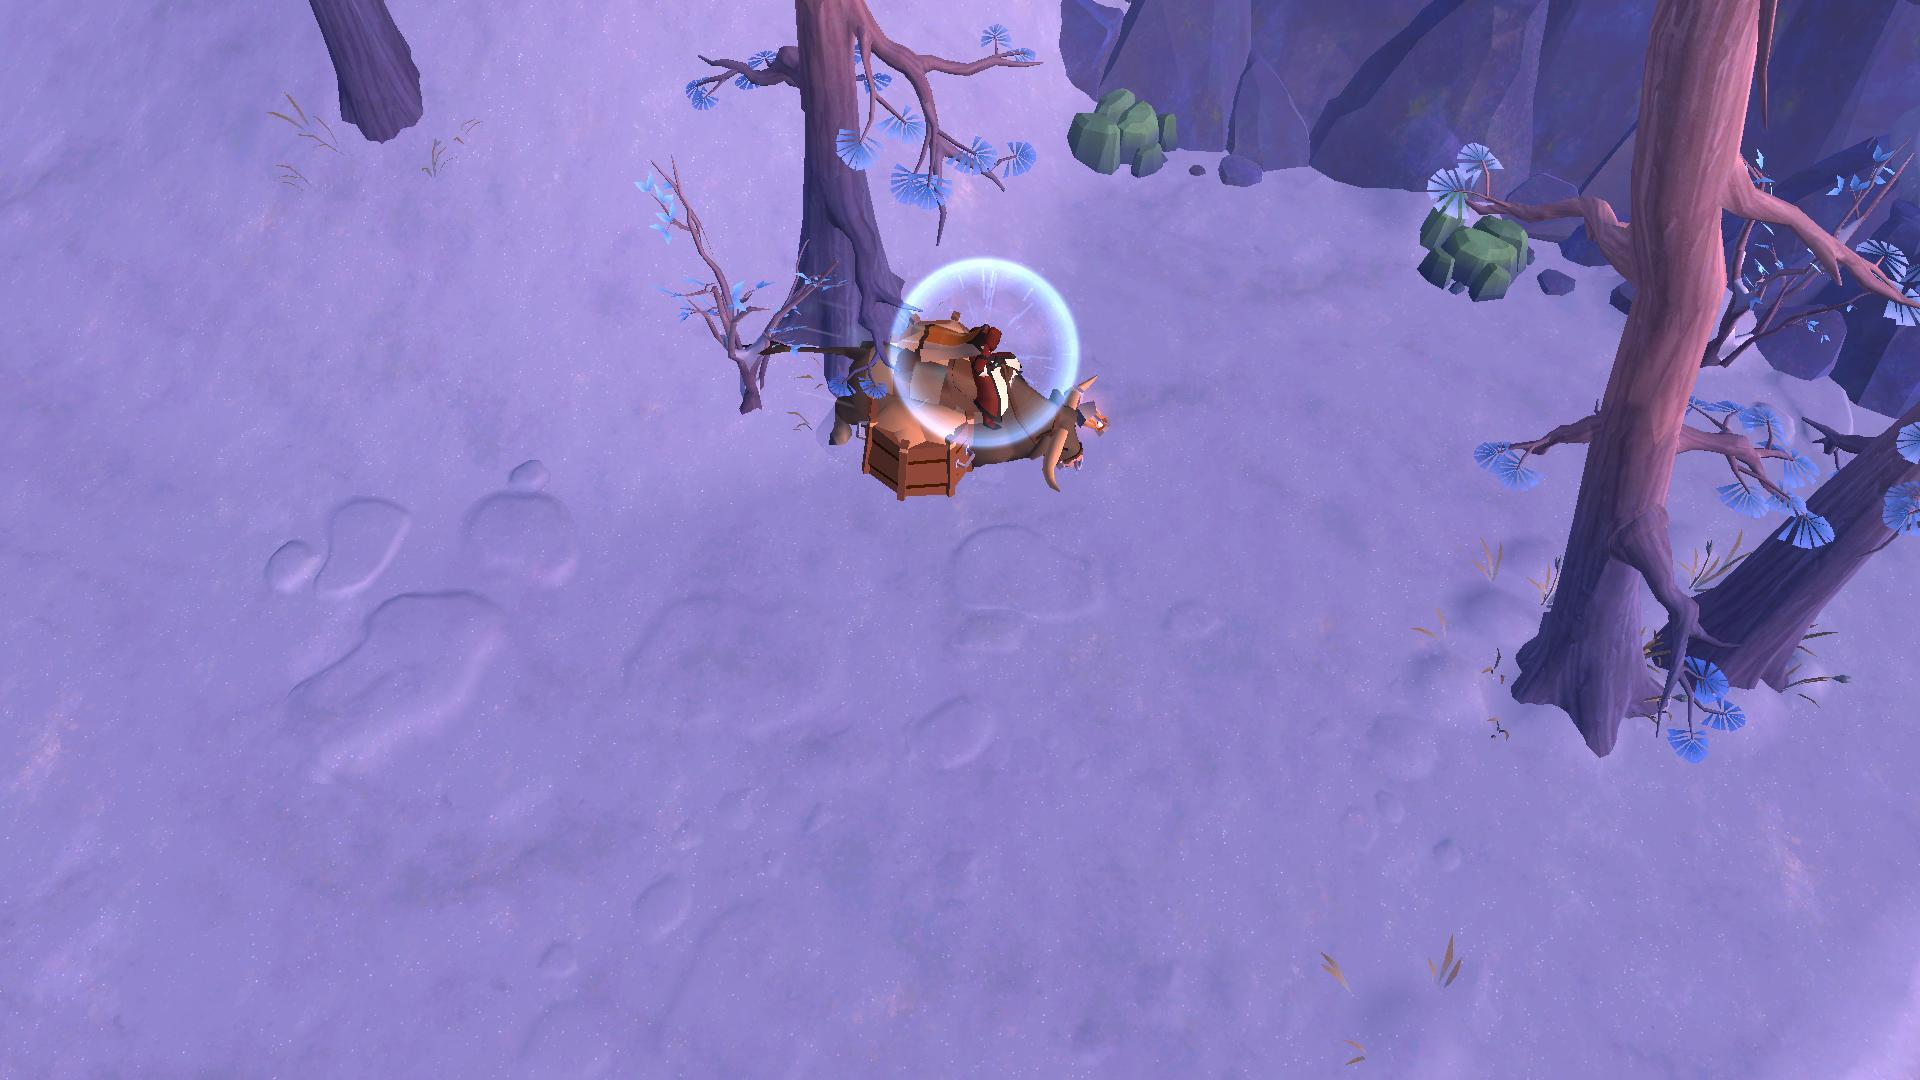rock_t3: (1050, 79, 1180, 183), (1415, 193, 1536, 305)
